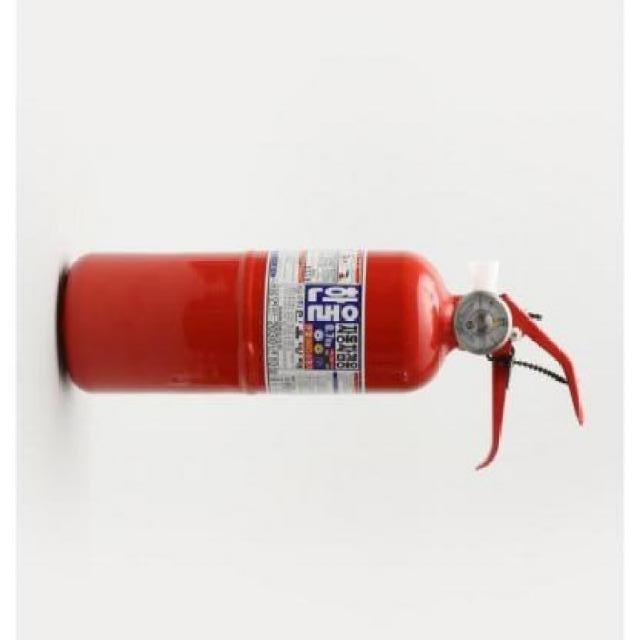fire extinguisher: (61, 248, 584, 472)
